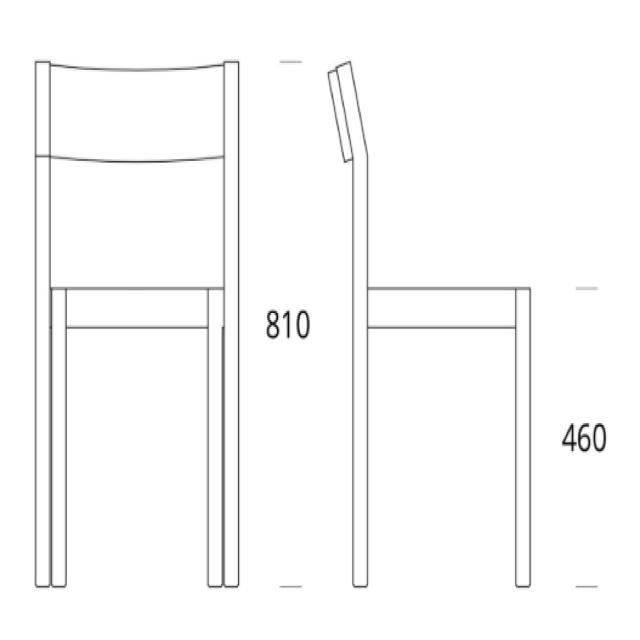Headrest: (25, 53, 246, 173), (319, 50, 374, 166)
Leg_Structure: (27, 281, 247, 596), (348, 276, 539, 594)
Seat: (346, 280, 538, 338), (45, 279, 232, 337)
